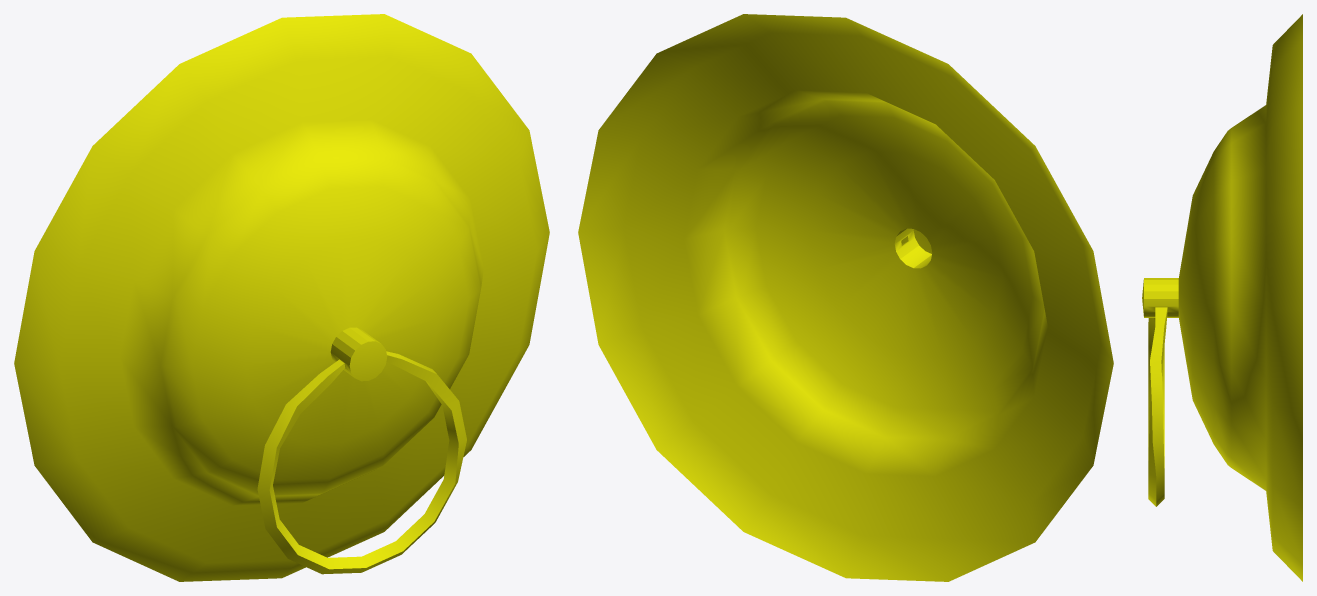
File: Door_Handle_02.fbx
The picture shows the model from 3 angles, left to right: view 1: azimuth 30°, elevation 25°; view 2: azimuth 150°, elevation 25°; view 3: azimuth 270°, elevation 25°; orthographic projection. The views are drawn at different scales.
Visible parts, largest first — view 1: Door_Handle_02; view 2: Door_Handle_02; view 3: Door_Handle_02.
Part boxes in pixels (bbox=[...]): Door_Handle_02: bbox=[14, 14, 549, 581]; Door_Handle_02: bbox=[578, 14, 1113, 581]; Door_Handle_02: bbox=[1142, 14, 1302, 581].
Bounding box in the file's own units: 1.39 × 1.39 × 0.3927.
